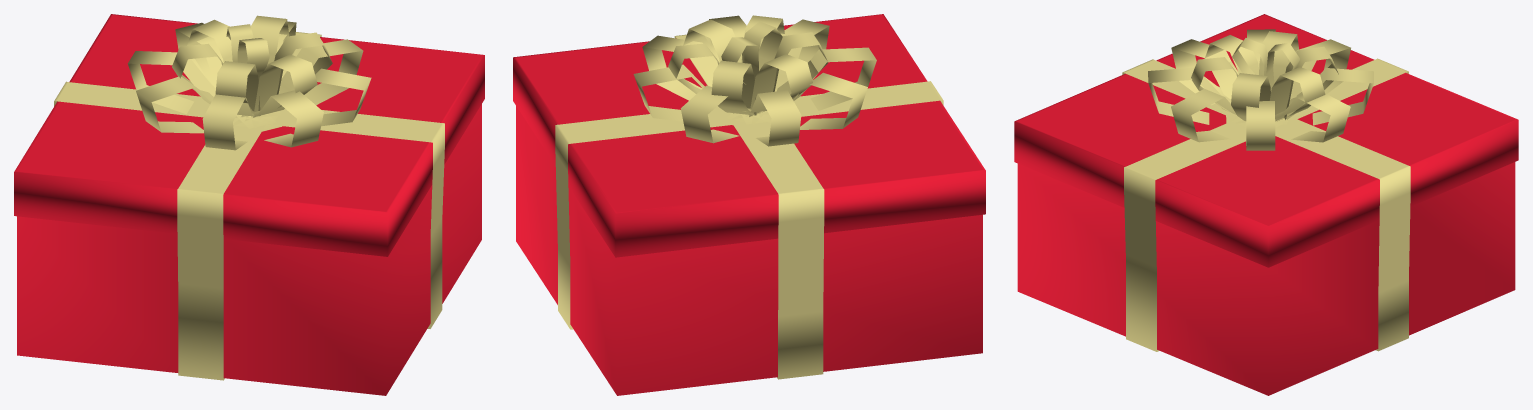
Rendered from giftbox4.glb.
3 renders of one model, left to right at view 1: azimuth 30°, elevation 25°; view 2: azimuth 150°, elevation 25°; view 3: azimuth 270°, elevation 25°, orthographic. The views are drawn at different scales.
Visible parts, largest first — view 1: Куб, Плоскость.001, Куб.001; view 2: Куб, Плоскость.001, Куб.001; view 3: Куб, Куб.001, Плоскость.001.
Part boxes in pixels (box(x1,y1,x2,y2)): Куб: box(14, 14, 484, 395); Плоскость.001: box(127, 15, 371, 150); Куб.001: box(54, 32, 444, 380); Куб: box(513, 14, 985, 395); Плоскость.001: box(633, 15, 876, 146); Куб.001: box(555, 34, 943, 379); Куб: box(1014, 14, 1518, 395); Куб.001: box(1122, 58, 1410, 351); Плоскость.001: box(1148, 29, 1373, 150).
Bounding box in the file's own units: 0.8921 × 0.4828 × 0.8921.
